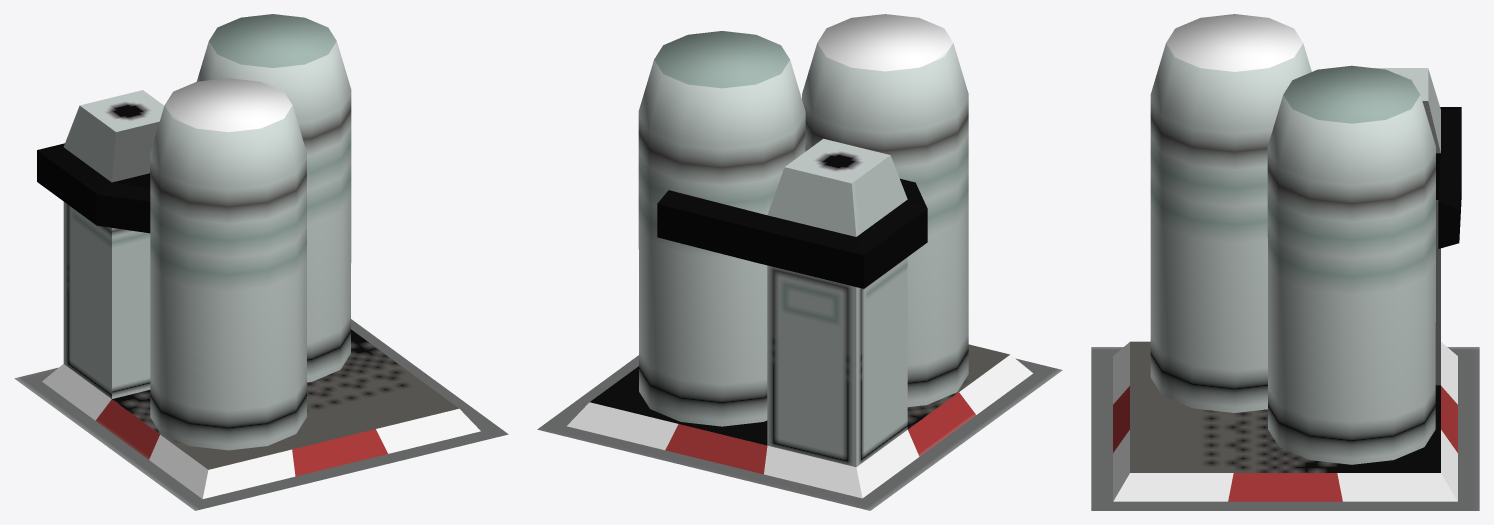
File: BLD_Oil_Refinery_Medium05.fbx
3 renders of one model, left to right at view 1: azimuth 30°, elevation 25°; view 2: azimuth 150°, elevation 25°; view 3: azimuth 270°, elevation 25°, orthographic. The views are drawn at different scales.
Parts seen in each view (by area): view 1: BLD_OilRefinery_Medium05; view 2: BLD_OilRefinery_Medium05; view 3: BLD_OilRefinery_Medium05.
Part boxes in pixels (<box>): BLD_OilRefinery_Medium05: <box>14,14,508,510</box>; BLD_OilRefinery_Medium05: <box>537,14,1062,510</box>; BLD_OilRefinery_Medium05: <box>1091,14,1479,510</box>.
Bounding box in the file's own units: 801 × 801 × 814.
